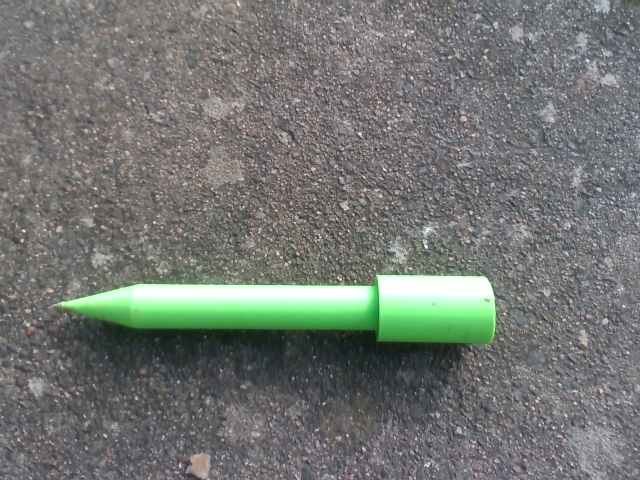Probe: (44, 261, 508, 358)
